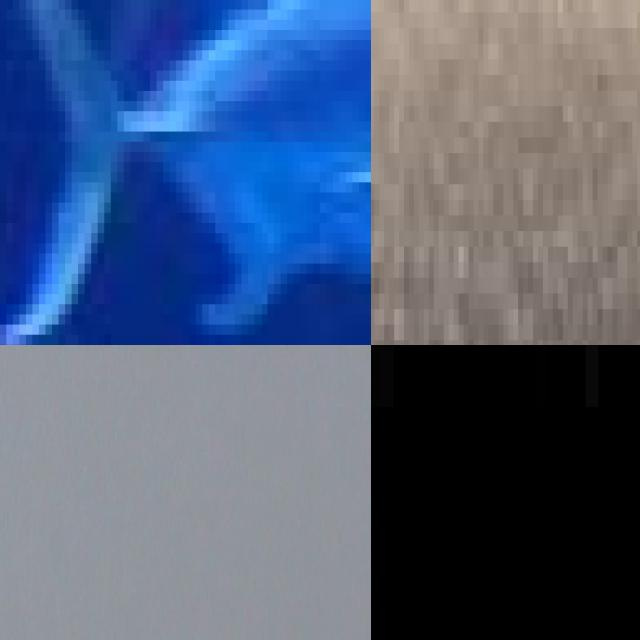fish: (0, 0, 371, 345), (371, 345, 640, 640)
